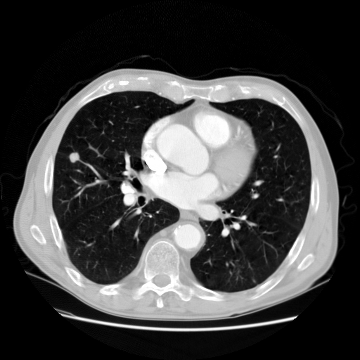nodule: (68, 151, 80, 163)
